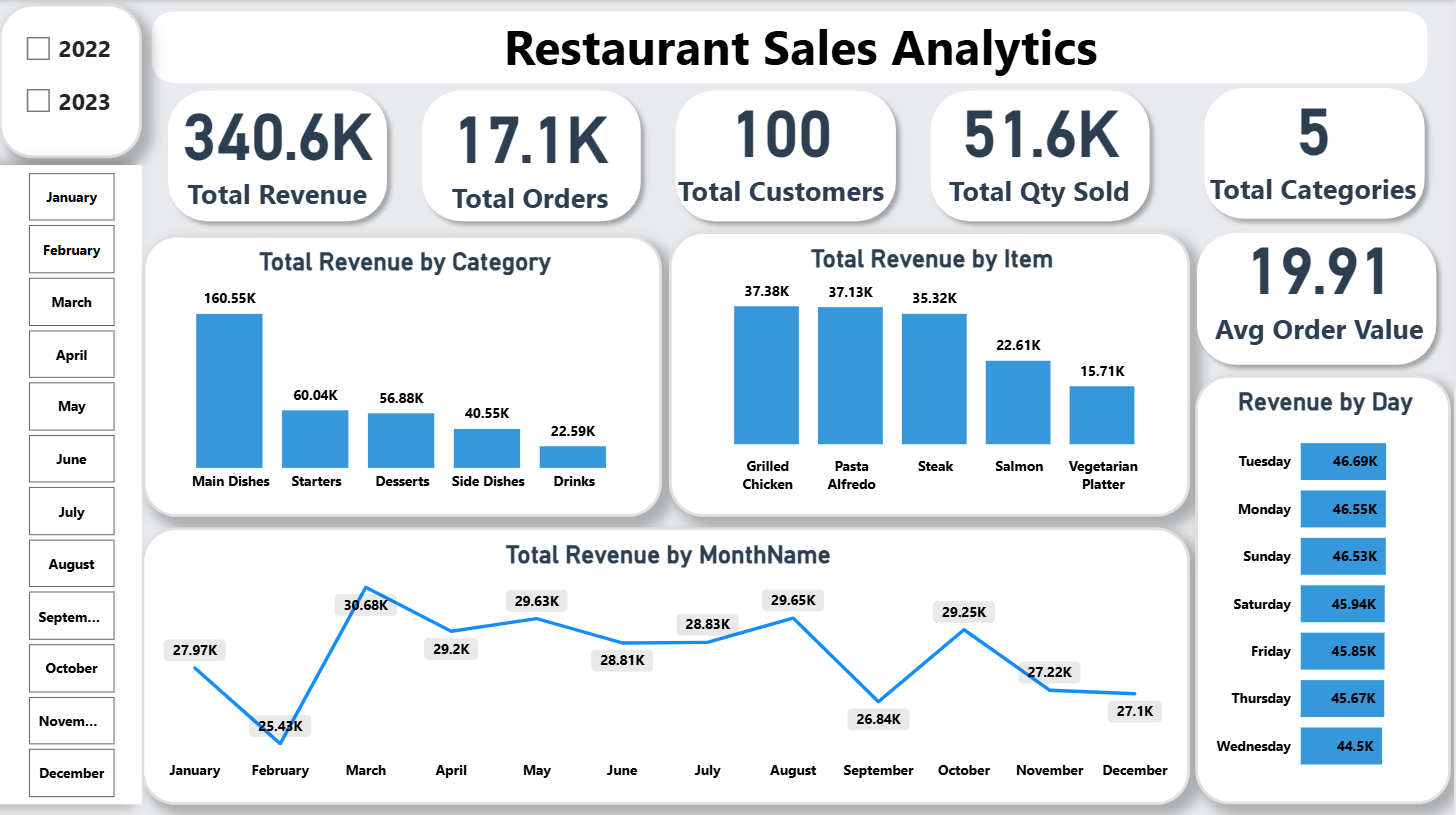

Layout of this report page (visuals, bound fields, positions):
{"tool":"powerbi","page":{"name":"Overview","canvas":[1280,720],"ordinal":0},"visuals":[{"type":"shape","box":[134.5,9.5,1122.6,63.1],"z":0},{"type":"textbox","title":"Restaurant Sales Analytics","box":[144,10.7,1122.6,63.1],"z":1000},{"type":"shape","box":[139.3,70.2,210.7,133.3],"z":2000},{"type":"shape","box":[362.5,70.2,210.7,133.3],"z":3000},{"type":"card","fields":{"Values":["Measures (2).Total Revenue"]},"box":[152.4,54.8,184.5,148.8],"z":4000},{"type":"shape","box":[585.7,70.2,211.9,133.3],"z":5000},{"type":"shape","box":[810.1,70.2,210.7,133.3],"z":6000},{"type":"shape","box":[1051.2,67.9,211.9,133.3],"z":7000},{"type":"card","fields":{"Values":["Measures (2).Total Orders"]},"box":[381,57.1,173.8,150],"z":8000},{"type":"card","fields":{"Values":["Measures (2).Total Customers"]},"box":[588.1,51.2,200,150],"z":9000},{"type":"card","fields":{"Values":["Measures (2).Total Quantity Sold"]},"box":[822.6,10.7,185.7,231],"z":10000},{"type":"columnChart","fields":{"Category":["restaurant_sales_data.Category"],"Y":["Measures (2).Total Revenue"]},"box":[126.7,207,457,247.7],"z":11000},{"type":"columnChart","fields":{"Y":["Measures (2).Total Revenue"],"Category":["restaurant_sales_data.Item"]},"box":[589.5,203.5,458.1,251.2],"z":12000},{"type":"lineChart","fields":{"Y":["Measures (2).Total Revenue"],"Category":["MonthsTable.MonthName"]},"box":[125.6,464,922.1,244.2],"z":13000},{"type":"slicer","fields":{"Values":["restaurant_sales_data.Year"]},"box":[0,3.5,125.6,136],"z":14000},{"type":"shape","box":[1044.6,195.7,228.7,134.1],"z":15000},{"type":"card","fields":{"Values":["Measures (2).Total Categories"]},"box":[1055.6,50.6,201.2,148.4],"z":16000},{"type":"card","fields":{"Values":["Measures (2).Avg Order Value"]},"box":[1061.1,173.7,201.2,147.3],"z":17000},{"type":"barChart","title":"Revenue by Day","fields":{"Y":["Measures (2).Total Revenue"],"Category":["restaurant_sales_data.Day"]},"box":[1052.3,330.2,224.4,377.9],"z":18000},{"type":"slicer","fields":{"Values":["MonthsTable.MonthName"]},"box":[0,145.3,125.6,562.8],"z":19000},{"type":"actionButton","box":[111.9,2.4,134.5,79.8],"z":20000}]}

Visuals, with their boxes in screenshot pixels (x1, y1, x2, y2), scaled from the page's 1280x720 canvas onto the 1456x815 screenshot:
shape: detection(153, 11, 1430, 82)
"Restaurant Sales Analytics" textbox: detection(164, 12, 1441, 84)
shape: detection(158, 79, 398, 230)
shape: detection(412, 79, 652, 230)
card - Measures (2).Total Revenue: detection(173, 62, 383, 230)
shape: detection(666, 79, 907, 230)
shape: detection(921, 79, 1161, 230)
shape: detection(1196, 77, 1437, 228)
card - Measures (2).Total Orders: detection(433, 65, 631, 234)
card - Measures (2).Total Customers: detection(669, 58, 896, 228)
card - Measures (2).Total Quantity Sold: detection(936, 12, 1147, 274)
columnChart - restaurant_sales_data.Category x Measures (2).Total Revenue: detection(144, 234, 664, 515)
columnChart - Measures (2).Total Revenue x restaurant_sales_data.Item: detection(671, 230, 1192, 515)
lineChart - Measures (2).Total Revenue x MonthsTable.MonthName: detection(143, 525, 1192, 802)
slicer - restaurant_sales_data.Year: detection(0, 4, 143, 158)
shape: detection(1188, 222, 1448, 373)
card - Measures (2).Total Categories: detection(1201, 57, 1430, 225)
card - Measures (2).Avg Order Value: detection(1207, 197, 1436, 363)
"Revenue by Day" barChart: detection(1197, 374, 1452, 802)
slicer - MonthsTable.MonthName: detection(0, 164, 143, 802)
actionButton: detection(127, 3, 280, 93)
